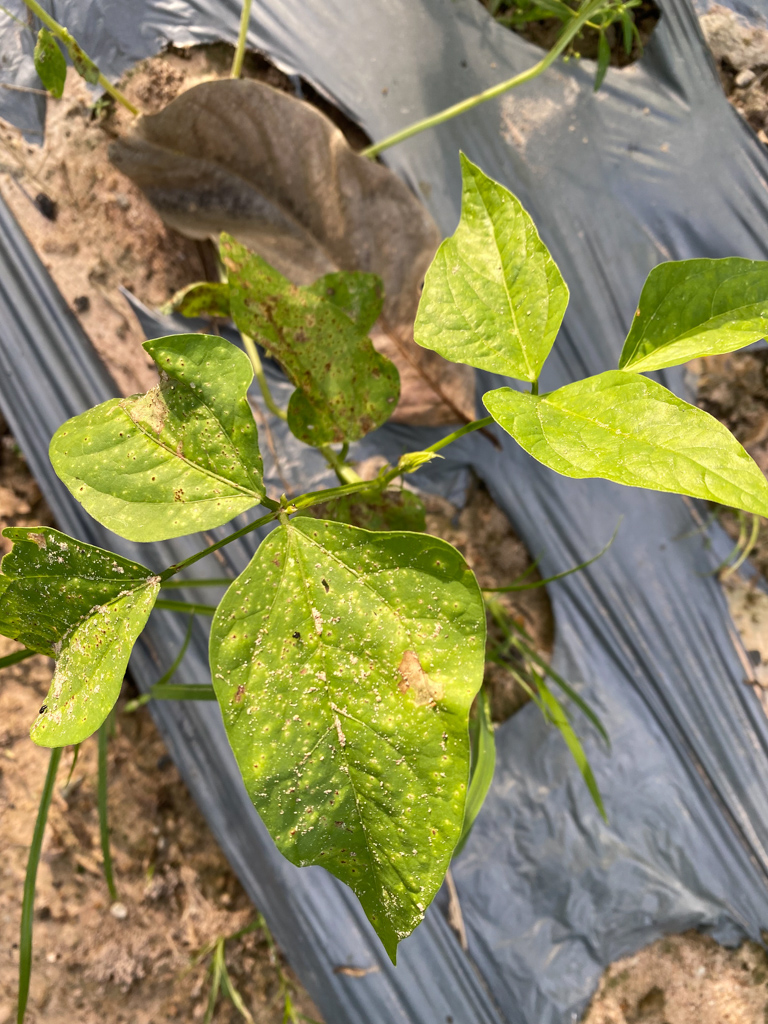Rust: (229, 556, 482, 952), (56, 343, 269, 530), (214, 242, 408, 442), (16, 535, 154, 736)
